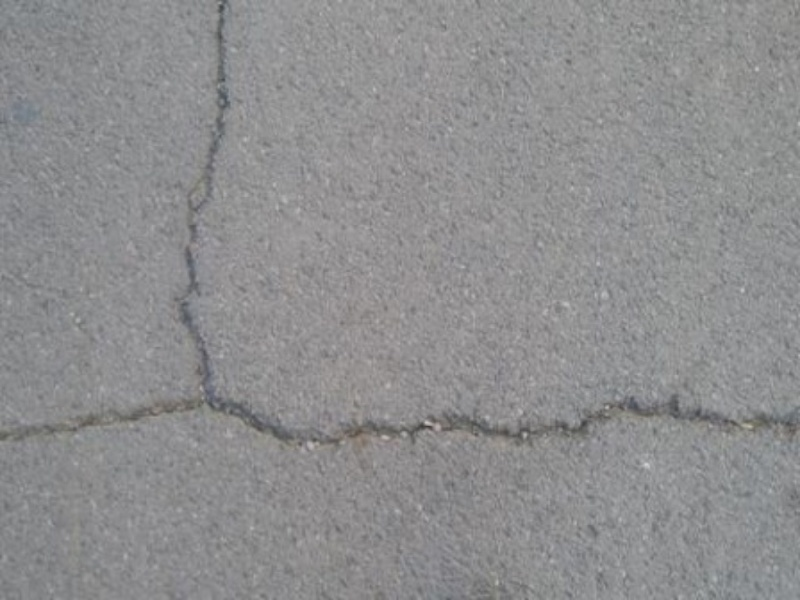crack: (13, 371, 790, 469), (161, 7, 255, 394)
